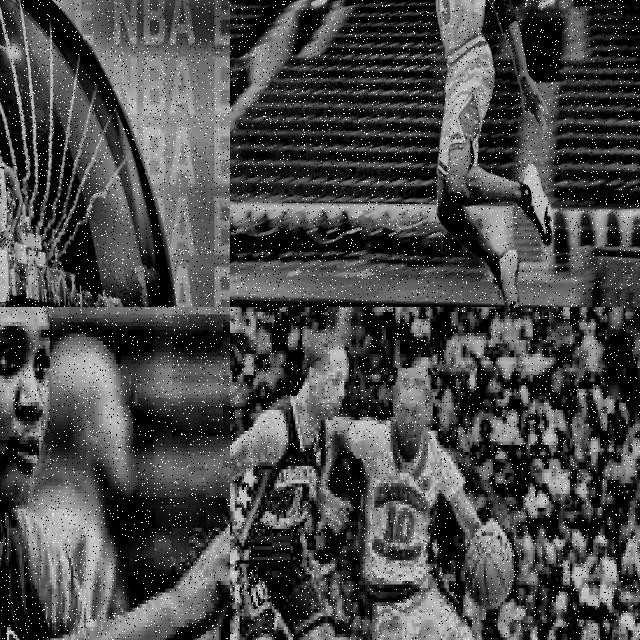Basketball: (465, 536, 516, 609)
